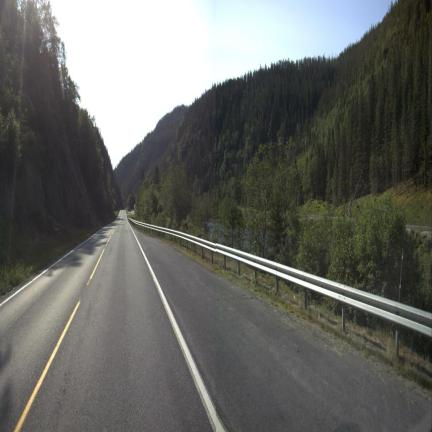Road: (0, 212, 431, 430)
